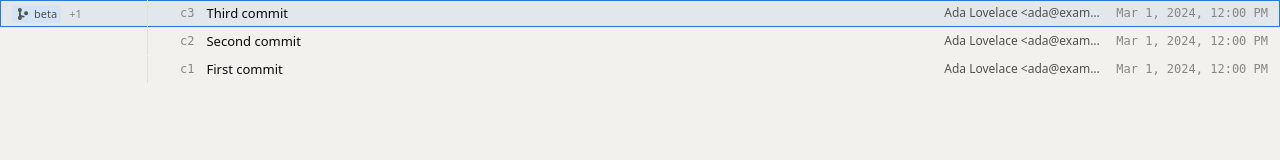
Test: CommitGraph — ref-chip collapse popover (specs/ref-chip-gutter-legibility.md FR-410/411) › FR-7: a collapsed merged local+synced-upstream chip shows both icons in the popover row
Click the button named "1 more refs on this commit" at point(75, 14), box [65,4,86,22]
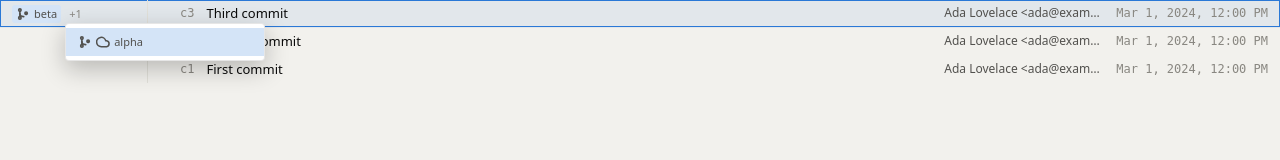
Check: the 2nd icon is shown, box [78,34,92,48]
Check: the 3rd icon is shown, box [96,34,110,48]
